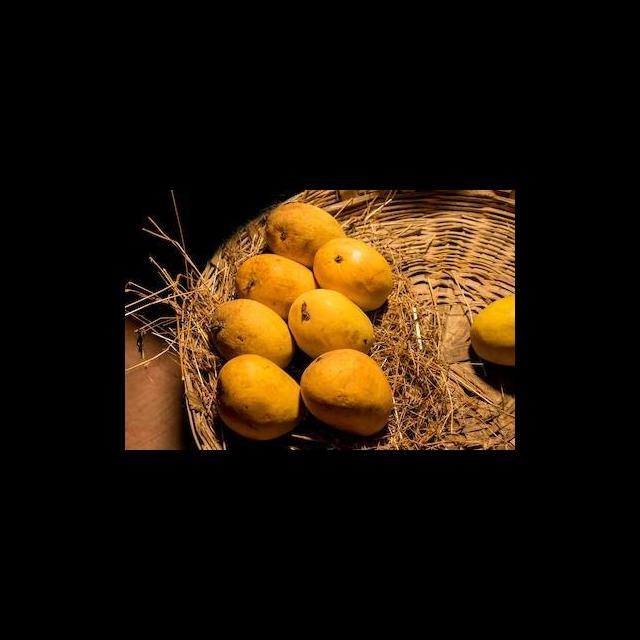mango: (299, 348, 393, 439), (215, 353, 309, 443), (286, 289, 375, 361), (312, 237, 394, 315), (214, 299, 296, 370), (235, 254, 319, 321), (265, 202, 347, 270)
